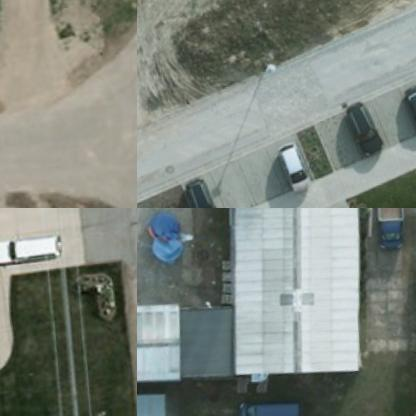car: (338, 89, 388, 153), (0, 222, 69, 268), (275, 135, 320, 193), (180, 173, 226, 207), (397, 72, 415, 132)
pickup: (366, 208, 412, 247)
van: (234, 385, 317, 415)
